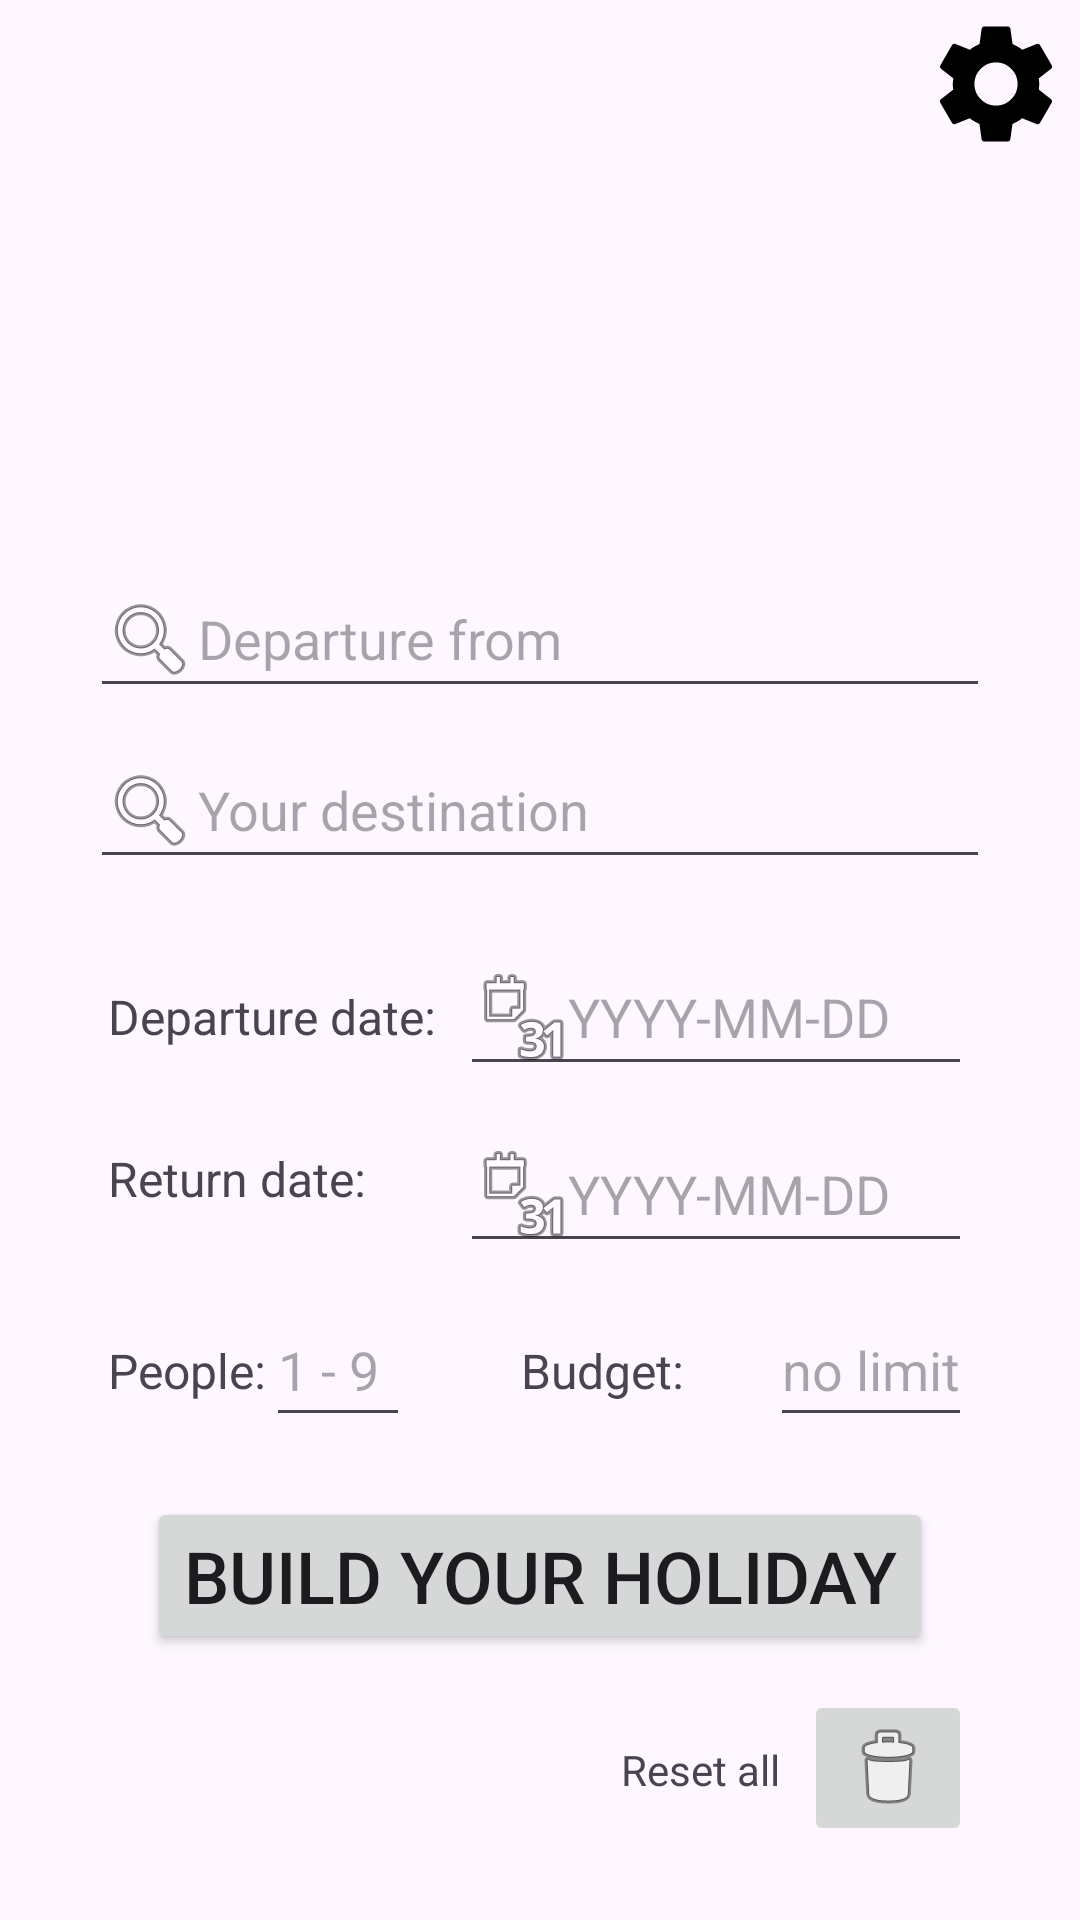

Screen size 1080px×1920px. Icon name, then its box in pixels as [x1=x1, y1=y1, x2=x2, y2=y2]:
Delete: [x1=816, y1=1708, x2=960, y2=1828]
Settings: [x1=940, y1=26, x2=1052, y2=142]
